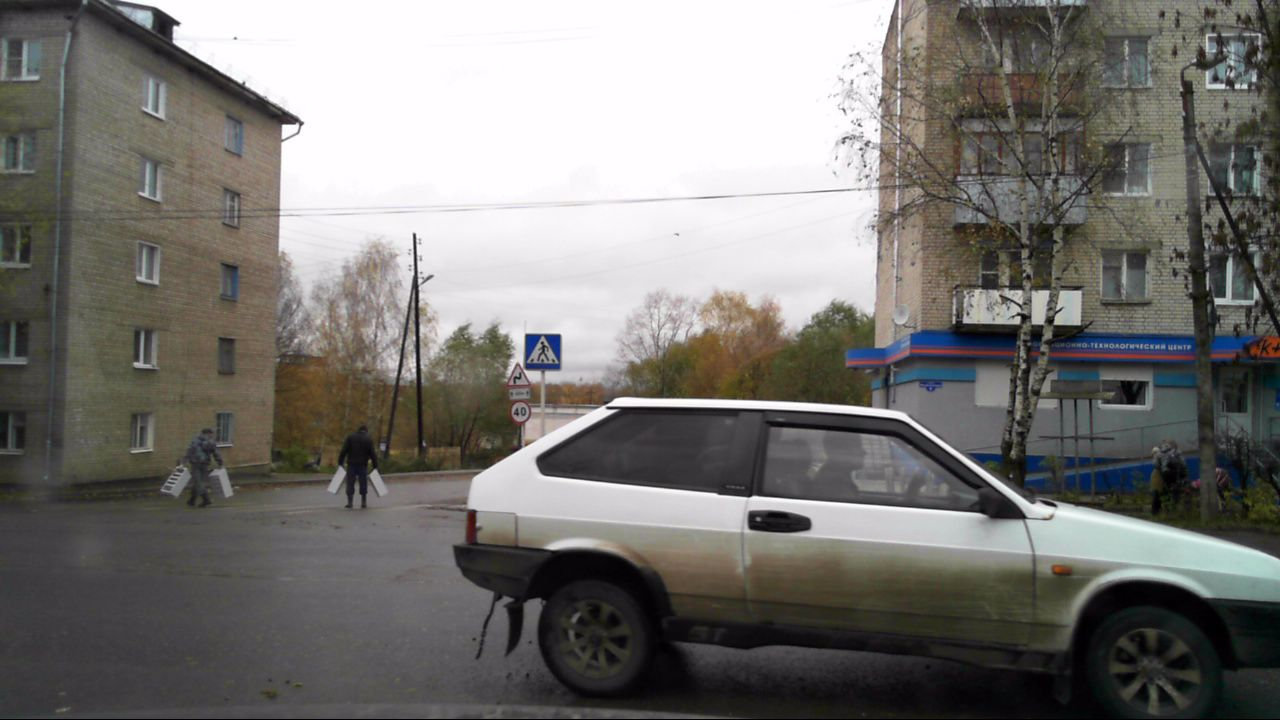speed_warning_40: (507, 399, 532, 424)
